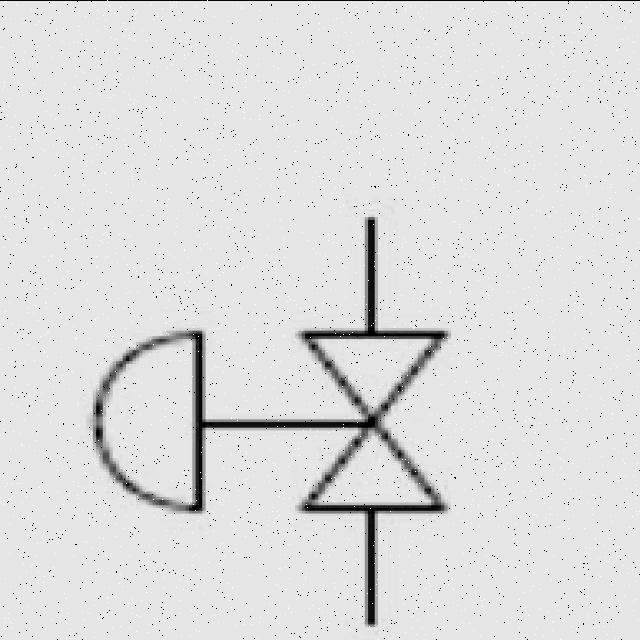Pneumatic-Diaphragm Gate Valve: (54, 236, 497, 592)
